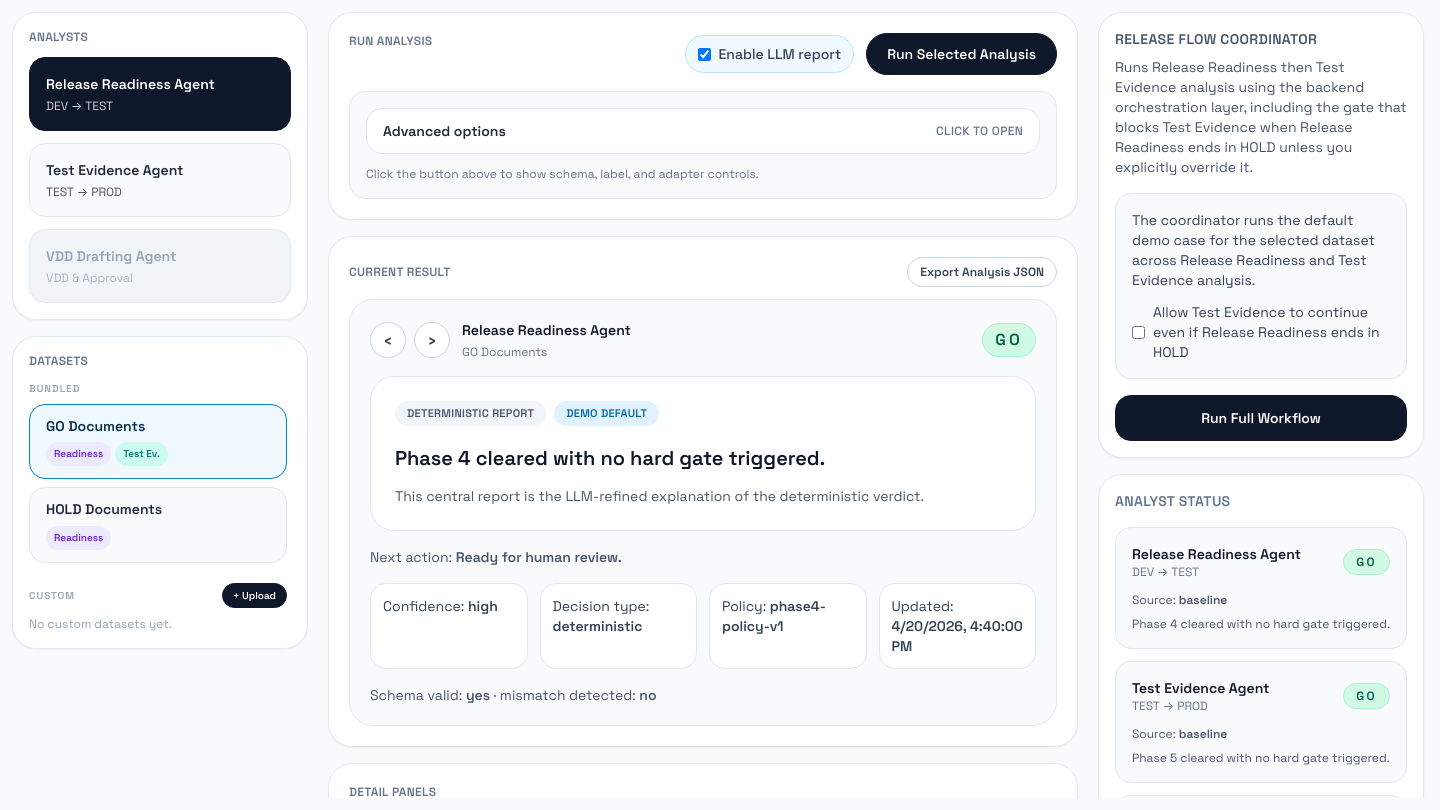
Test: Release Dashboard › runs the full workflow through the brain endpoint
Click the button "Run Full Workflow". click: (1261, 418)
box: 1115,395 -> 1407,441
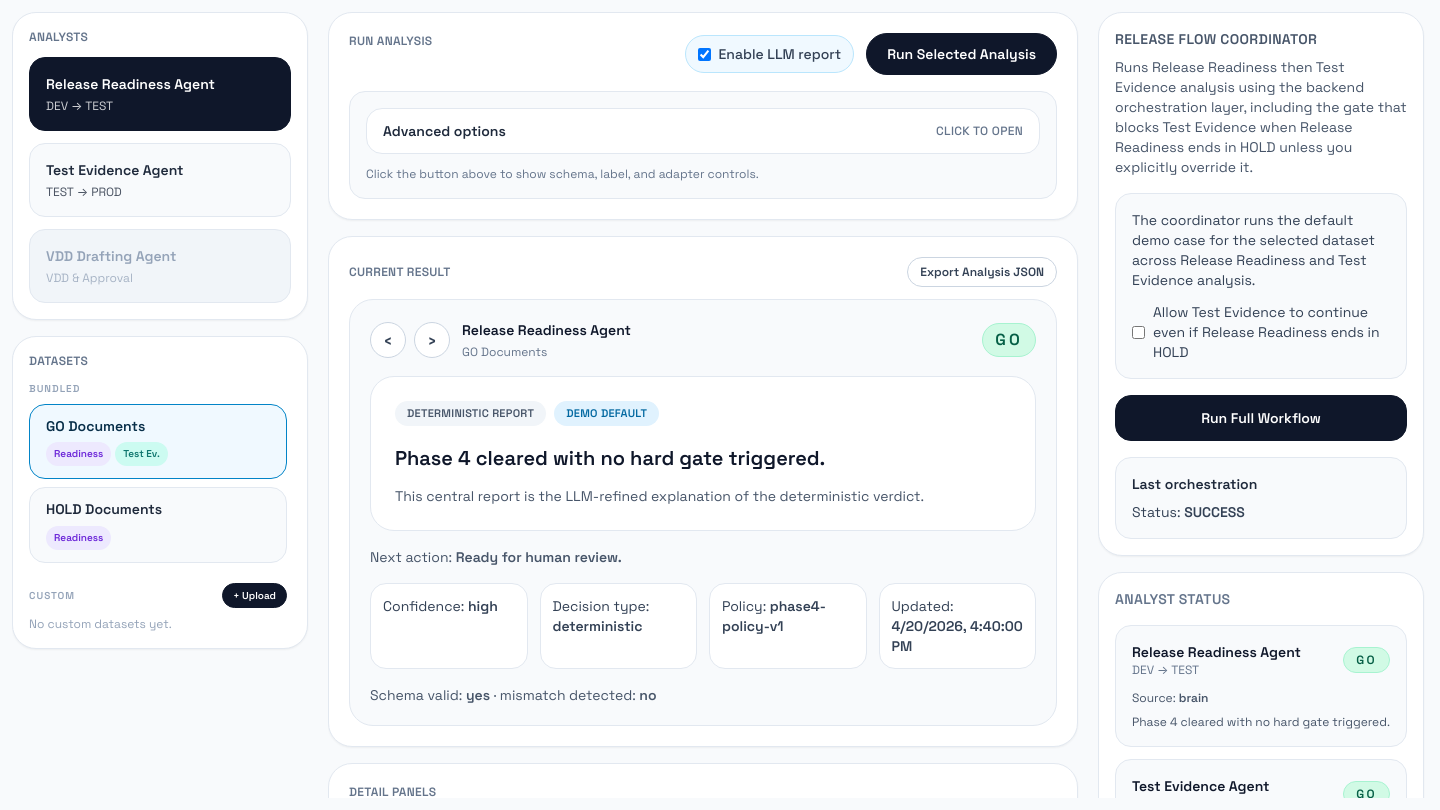
Expected: the text "Last orchestration" is shown, 1132,475 -> 1257,493
Expected: the text "Status: SUCCESS" is shown, 1132,503 -> 1245,521
